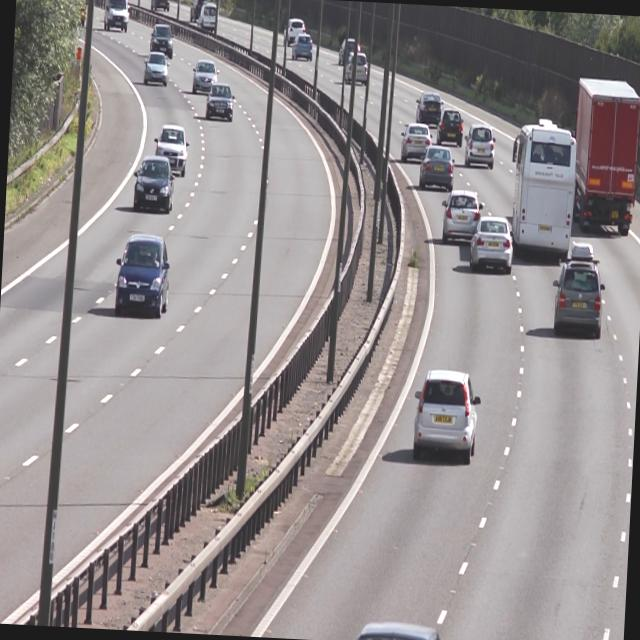Vehicle: (569, 77, 639, 235), (507, 118, 579, 254), (408, 368, 482, 465), (112, 230, 172, 320), (551, 242, 606, 336), (469, 214, 514, 272), (134, 156, 177, 213), (438, 191, 480, 245), (154, 123, 189, 177), (418, 146, 456, 194), (463, 122, 498, 171), (435, 104, 465, 150), (398, 124, 432, 164), (203, 81, 234, 122), (412, 90, 442, 127), (142, 53, 170, 91), (148, 20, 174, 60), (343, 50, 369, 90), (190, 58, 217, 96), (102, 0, 129, 36), (290, 32, 314, 64)
